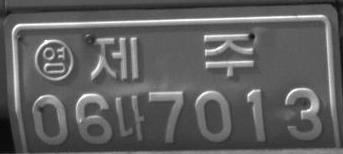0: (194, 89, 231, 143), (31, 92, 68, 145)
1: (239, 88, 275, 143)
3: (284, 86, 322, 142)
6: (74, 91, 113, 145)
7: (148, 90, 185, 144)
나: (114, 94, 145, 142)
영: (33, 38, 74, 81)
제주_D: (89, 32, 254, 82)
